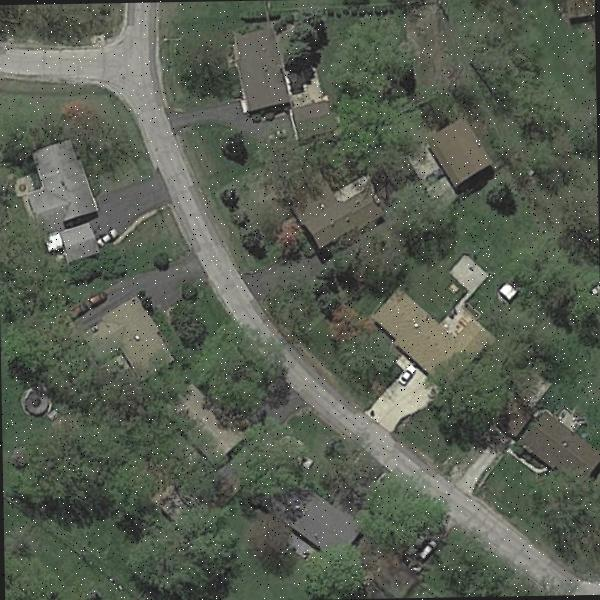Buildings: (384, 295, 480, 365), (22, 140, 94, 226), (230, 23, 290, 120), (92, 305, 172, 376), (304, 180, 372, 240), (527, 425, 600, 479), (299, 486, 347, 546), (180, 390, 223, 450), (438, 125, 480, 184), (50, 224, 96, 266), (295, 105, 333, 140)
